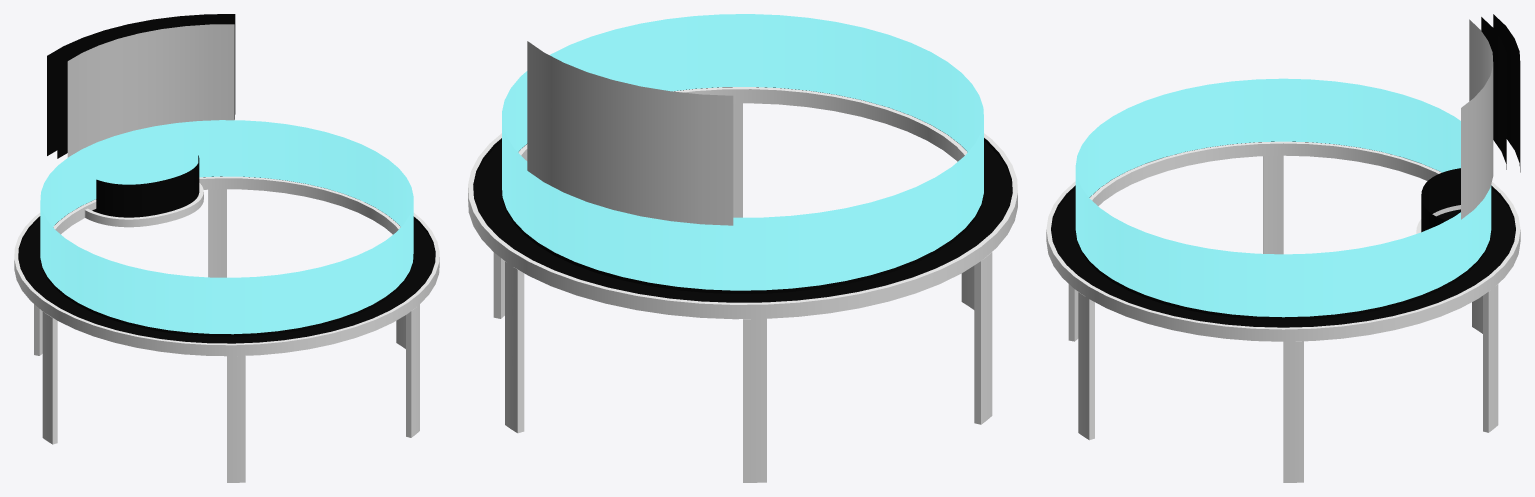
Rendered from ControlRoom.fbx.
The picture shows the model from 3 angles, left to right: view 1: azimuth 30°, elevation 25°; view 2: azimuth 150°, elevation 25°; view 3: azimuth 270°, elevation 25°; orthographic projection. The views are drawn at different scales.
Parts seen in each view (by area): view 1: Rail_Overlay_2, Screen_Big_A, Rail_Top, Rail, WireframeContrainer_Overlay, Support_2, Screen_Big_C, Screen_Big_B, Support_3, Support_1, Support_5, WireframeContainer; view 2: Rail_Overlay_2, Screen_Big_A, Rail_Top, Rail, Support_4, Support_5, Support_3, Support_1, Support_0; view 3: Rail_Overlay_2, Rail_Top, Rail, Screen_Big_A, Support_0, Support_1, Support_5, Support_3, Screen_Big_C, Screen_Big_B, WireframeContrainer_Overlay, Support_2.
Part boxes in pixels (left/top/right/bottom): Rail_Overlay_2: left=40, top=120, right=413, bottom=334; Screen_Big_A: left=67, top=24, right=234, bottom=157; Rail_Top: left=14, top=176, right=439, bottom=345; Rail: left=14, top=178, right=439, bottom=356; WireframeContrainer_Overlay: left=96, top=155, right=199, bottom=217; Support_2: left=227, top=356, right=245, bottom=482; Screen_Big_C: left=47, top=14, right=235, bottom=155; Screen_Big_B: left=57, top=19, right=234, bottom=158; Support_3: left=42, top=311, right=57, bottom=444; Support_1: left=406, top=304, right=419, bottom=437; Support_5: left=208, top=189, right=226, bottom=277; WireframeContainer: left=84, top=192, right=203, bottom=227; Rail_Overlay_2: left=502, top=14, right=983, bottom=290; Screen_Big_A: left=527, top=41, right=733, bottom=225; Rail_Top: left=468, top=87, right=1017, bottom=304; Rail: left=468, top=89, right=1017, bottom=319; Support_4: left=743, top=319, right=766, bottom=482; Support_5: left=505, top=261, right=524, bottom=433; Support_3: left=974, top=252, right=992, bottom=424; Support_1: left=733, top=103, right=742, bottom=217; Support_0: left=493, top=252, right=504, bottom=318; Rail_Overlay_2: left=1075, top=78, right=1491, bottom=317; Rail_Top: left=1046, top=141, right=1520, bottom=329; Rail: left=1046, top=143, right=1520, bottom=341; Screen_Big_A: left=1461, top=19, right=1493, bottom=219; Support_0: left=1283, top=341, right=1303, bottom=482; Support_1: left=1078, top=292, right=1094, bottom=440; Support_5: left=1483, top=284, right=1498, bottom=432; Support_3: left=1263, top=155, right=1283, bottom=254; Screen_Big_C: left=1493, top=14, right=1520, bottom=172; Screen_Big_B: left=1481, top=17, right=1506, bottom=169; WireframeContrainer_Overlay: left=1421, top=168, right=1460, bottom=232; Support_2: left=1068, top=284, right=1078, bottom=341.
Size of the model in its own units: 350 by 262 by 350.
